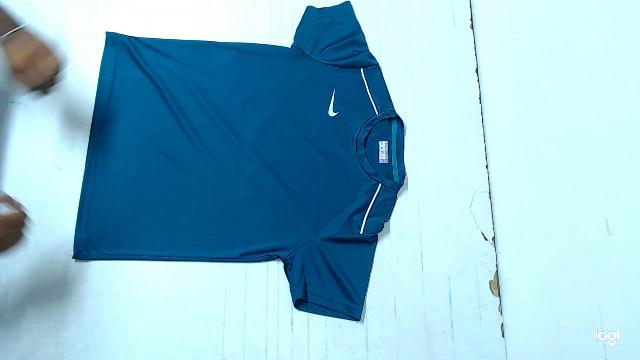new-garment: (73, 2, 405, 321)
